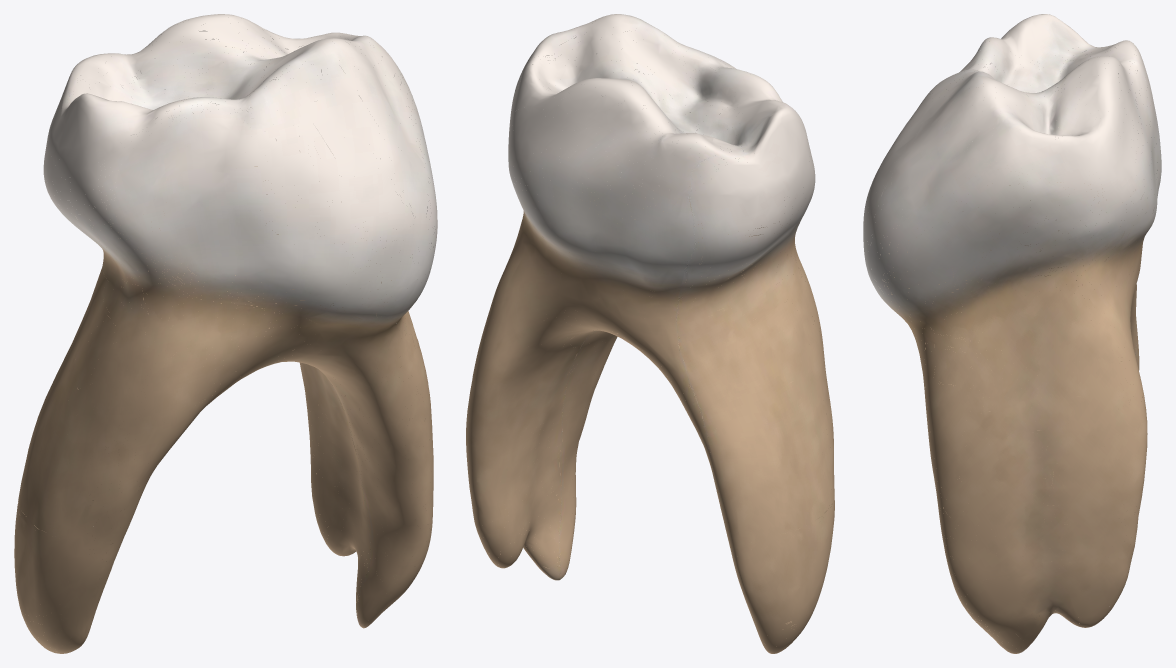
3 views of the same model, side by side, from view 1: azimuth 30°, elevation 25°; view 2: azimuth 150°, elevation 25°; view 3: azimuth 270°, elevation 25° (orthographic). The views are drawn at different scales.
Parts seen in each view (by area): view 1: diente-84 (×6); view 2: diente-84 (×6); view 3: diente-84 (×6).
Boxes of the visible parts, x1,y1,x2,y2 form: diente-84 (×6): (14,14,437,653); diente-84 (×6): (466,14,834,653); diente-84 (×6): (863,14,1161,653).
Size of the model in its own units: 0.00963 by 0.0158 by 0.00776.
1 material, 1 textured.
